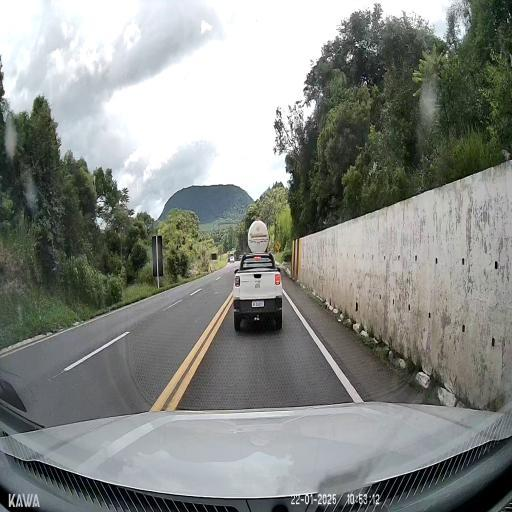A-2a: (274, 240, 282, 252)
